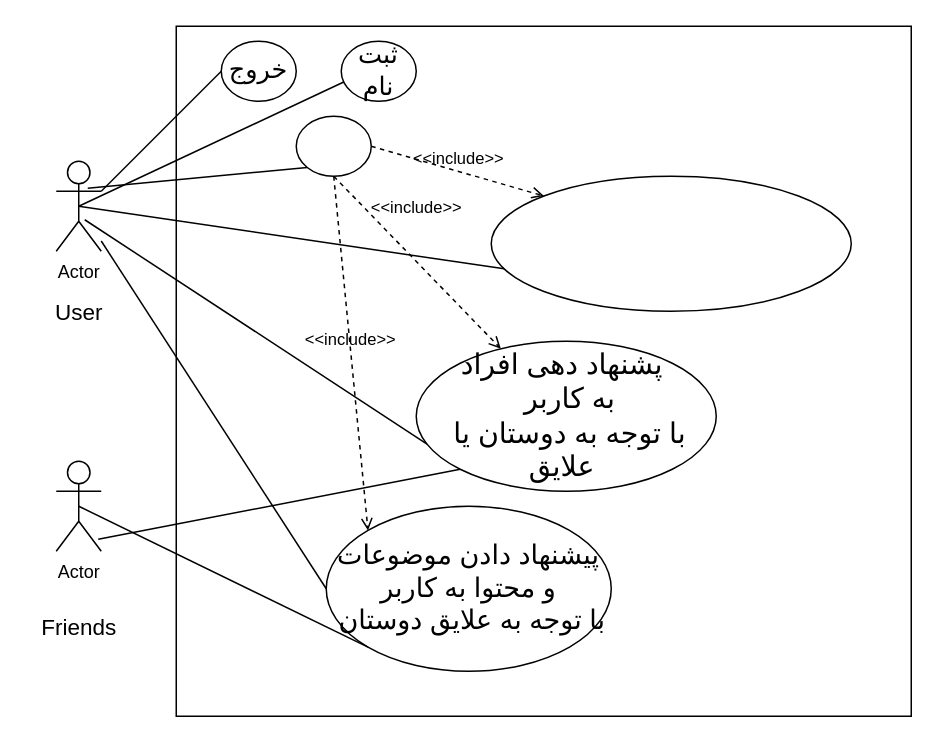
Image size: 938x743. Some labels were removed from this diagram. The centre of each missing label's shape, as x and y in pixels:
"ورود" goes at (333,145).
"پیشنهاد موضوعات و محتوا به کاربر با توجه به سن ، جنسیت و غیره" goes at (670,243).
